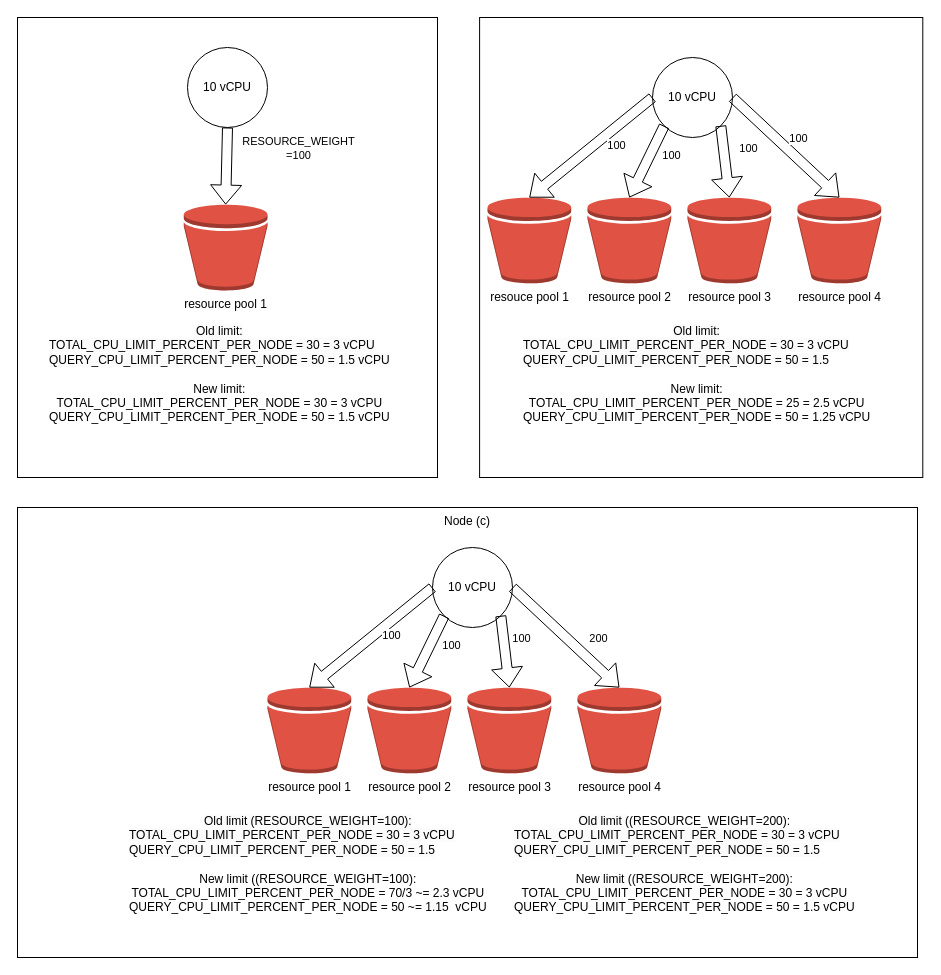
This 941x975 diagram has some shape labels left out. The box of each missing label's shape, as (x1, y1, x2, y2) in pixels:
Node (a): (16, 16, 438, 478)
Node (b): (479, 16, 923, 478)
